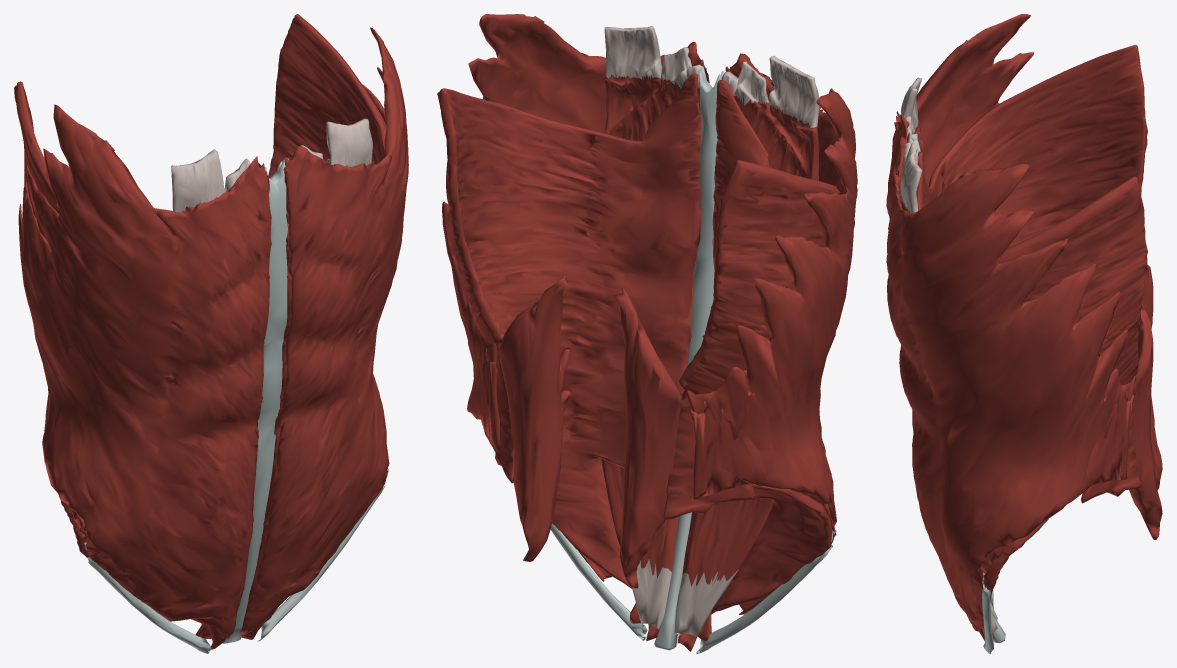
The model's file is muscles-abdomen.glb.
The picture shows the model from 3 angles, left to right: view 1: azimuth 30°, elevation 25°; view 2: azimuth 150°, elevation 25°; view 3: azimuth 270°, elevation 25°; orthographic projection. The views are drawn at different scales.
Parts seen in each view (by area): view 1: muscle-external-abdominal-oblique-muscle-r, muscle-external-abdominal-oblique-muscle-l, muscle-transversus-abdominis-muscle-l, muscle-linea-alba, muscle-internal-abdominal-oblique-muscle-l, muscle-rectus-abdominis-muscle-r, muscle-transversus-abdominis-muscle-r, muscle-rectus-abdominis-muscle-l, muscle-internal-abdominal-oblique-muscle-r, muscle-inguinal-ligament-r, muscle-inguinal-ligament-l; view 2: muscle-transversus-abdominis-muscle-l, muscle-transversus-abdominis-muscle-r, muscle-external-abdominal-oblique-muscle-r, muscle-rectus-abdominis-muscle-r, muscle-external-abdominal-oblique-muscle-l, muscle-quadratus-lumborum-muscle-l, muscle-rectus-abdominis-muscle-l, muscle-quadratus-lumborum-muscle-r, muscle-linea-alba, muscle-internal-abdominal-oblique-muscle-r, muscle-inguinal-ligament-r, muscle-internal-abdominal-oblique-muscle-l (+1 smaller); view 3: muscle-external-abdominal-oblique-muscle-l, muscle-transversus-abdominis-muscle-r, muscle-transversus-abdominis-muscle-l, muscle-external-abdominal-oblique-muscle-r, muscle-quadratus-lumborum-muscle-l, muscle-internal-abdominal-oblique-muscle-l, muscle-rectus-abdominis-muscle-l, muscle-quadratus-lumborum-muscle-r, muscle-rectus-abdominis-muscle-r, muscle-inguinal-ligament-l.
Boxes of the visible parts, bbox=[...] form: muscle-external-abdominal-oblique-muscle-r: bbox=[18, 104, 271, 621]; muscle-external-abdominal-oblique-muscle-l: bbox=[252, 27, 408, 612]; muscle-transversus-abdominis-muscle-l: bbox=[241, 14, 386, 639]; muscle-linea-alba: bbox=[222, 161, 288, 643]; muscle-internal-abdominal-oblique-muscle-l: bbox=[239, 157, 388, 634]; muscle-rectus-abdominis-muscle-r: bbox=[171, 149, 250, 624]; muscle-transversus-abdominis-muscle-r: bbox=[14, 81, 225, 649]; muscle-rectus-abdominis-muscle-l: bbox=[269, 118, 372, 490]; muscle-internal-abdominal-oblique-muscle-r: bbox=[70, 163, 271, 638]; muscle-inguinal-ligament-r: bbox=[83, 542, 211, 653]; muscle-inguinal-ligament-l: bbox=[257, 469, 388, 641]; muscle-transversus-abdominis-muscle-l: bbox=[437, 73, 701, 640]; muscle-transversus-abdominis-muscle-r: bbox=[663, 80, 839, 651]; muscle-external-abdominal-oblique-muscle-r: bbox=[686, 53, 857, 614]; muscle-rectus-abdominis-muscle-r: bbox=[674, 55, 819, 636]; muscle-external-abdominal-oblique-muscle-l: bbox=[442, 14, 709, 581]; muscle-quadratus-lumborum-muscle-l: bbox=[498, 274, 571, 561]; muscle-rectus-abdominis-muscle-l: bbox=[601, 25, 702, 629]; muscle-quadratus-lumborum-muscle-r: bbox=[614, 288, 681, 588]; muscle-linea-alba: bbox=[654, 66, 724, 650]; muscle-internal-abdominal-oblique-muscle-r: bbox=[690, 66, 836, 614]; muscle-inguinal-ligament-r: bbox=[696, 530, 836, 653]; muscle-internal-abdominal-oblique-muscle-l: bbox=[464, 59, 704, 549]; muscle-external-abdominal-oblique-muscle-l: bbox=[886, 136, 1135, 629]; muscle-transversus-abdominis-muscle-r: bbox=[918, 44, 1147, 248]; muscle-transversus-abdominis-muscle-l: bbox=[916, 151, 1147, 649]; muscle-external-abdominal-oblique-muscle-r: bbox=[886, 14, 1034, 432]; muscle-quadratus-lumborum-muscle-l: bbox=[1129, 303, 1162, 539]; muscle-internal-abdominal-oblique-muscle-l: bbox=[916, 164, 1133, 631]; muscle-rectus-abdominis-muscle-l: bbox=[899, 142, 997, 636]; muscle-quadratus-lumborum-muscle-r: bbox=[1142, 264, 1162, 489]; muscle-rectus-abdominis-muscle-r: bbox=[900, 77, 997, 620]; muscle-inguinal-ligament-l: bbox=[982, 572, 994, 653].
Bounding box in the file's own units: 0.282 × 0.4397 × 0.1991.
